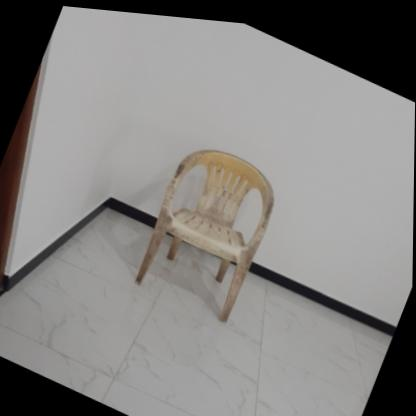Ceramic floor: (0, 196, 393, 416)
Chair: (129, 126, 287, 328)
